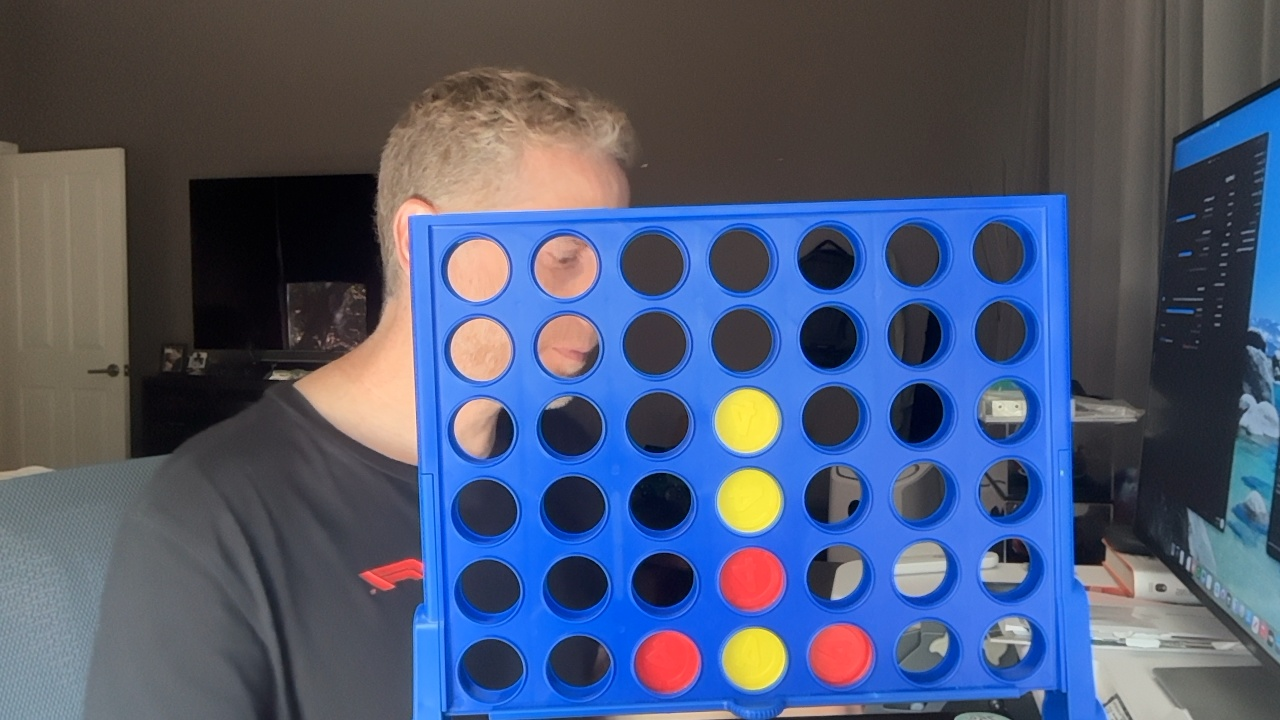red piece: (634, 630, 700, 694), (719, 547, 784, 611), (809, 624, 873, 686)
yellow piece: (715, 388, 780, 454), (717, 468, 782, 533), (721, 627, 787, 691)
